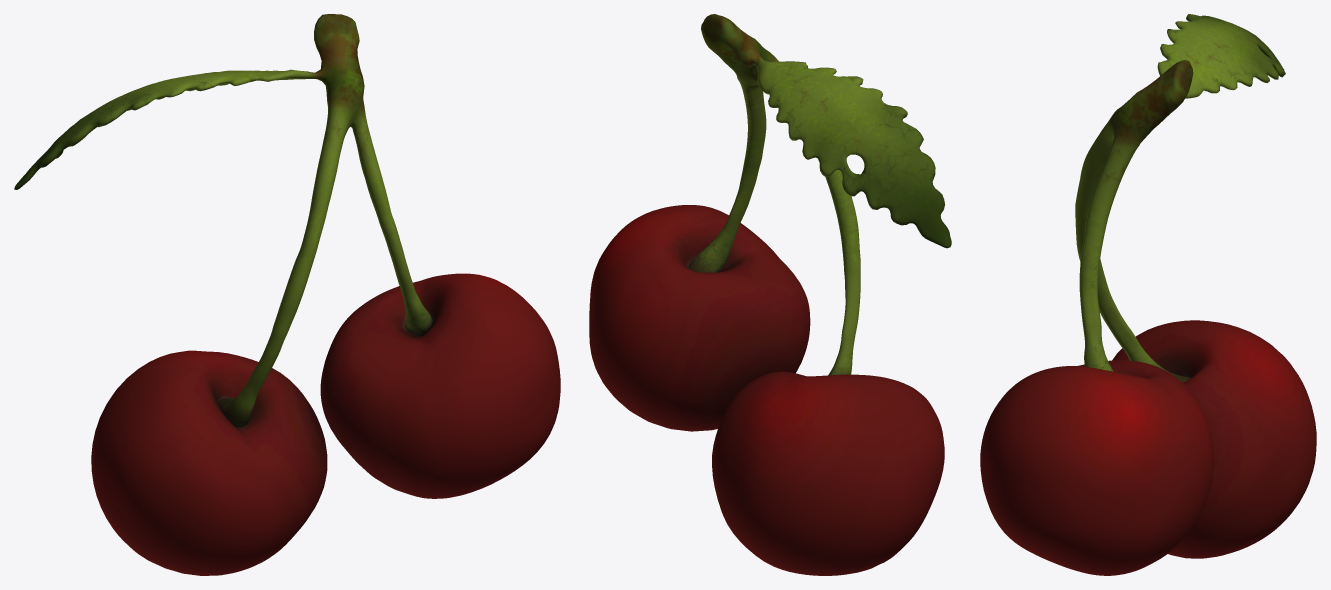
Rendered from cherry.glb.
3 views of the same model, side by side, from view 1: azimuth 30°, elevation 25°; view 2: azimuth 150°, elevation 25°; view 3: azimuth 270°, elevation 25° (orthographic). The views are drawn at different scales.
Parts seen in each view (by area): view 1: Object_3, Object_2; view 2: Object_3, Object_2; view 3: Object_3, Object_2.
Boxes of the visible parts, <box> form: Object_3: <box>91,273,560,575</box>; Object_2: <box>14,14,432,426</box>; Object_3: <box>589,205,944,575</box>; Object_2: <box>688,14,951,375</box>; Object_3: <box>980,320,1316,575</box>; Object_2: <box>1075,14,1285,382</box>.
Size of the model in its own units: 517 by 585 by 332.
Materials: 1 (1 with a texture image).
